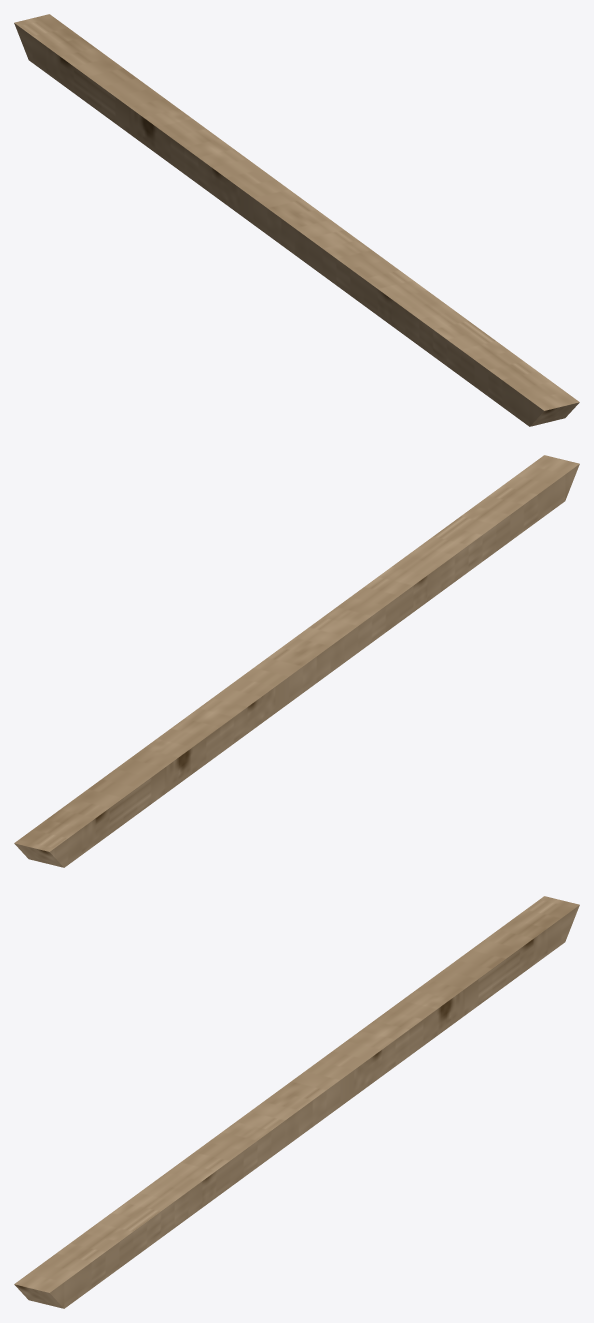
Rendered from Joglo_part_117.fbx.
3 renders of one model, top to bottom at view 1: azimuth 30°, elevation 25°; view 2: azimuth 150°, elevation 25°; view 3: azimuth 330°, elevation 25°, orthographic.
Visible parts, largest first — view 1: Mesh202_Wood___Pine_Grained_Horizontal_0.001; view 2: Mesh202_Wood___Pine_Grained_Horizontal_0.001; view 3: Mesh202_Wood___Pine_Grained_Horizontal_0.001.
Boxes of the visible parts, x1,y1,x2,y2 form: Mesh202_Wood___Pine_Grained_Horizontal_0.001: [14, 14, 579, 426]; Mesh202_Wood___Pine_Grained_Horizontal_0.001: [14, 455, 579, 867]; Mesh202_Wood___Pine_Grained_Horizontal_0.001: [14, 896, 579, 1308].
Bounding box in the file's own units: 1.37 × 0.9842 × 35.43.
